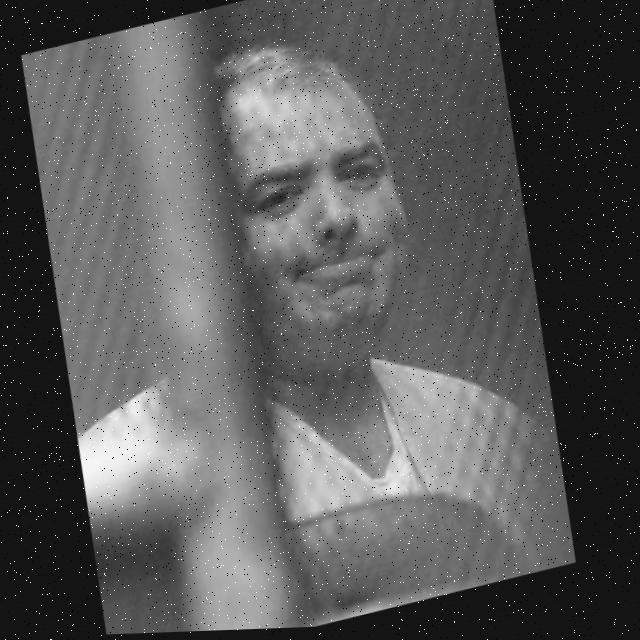face: (209, 37, 452, 408)
